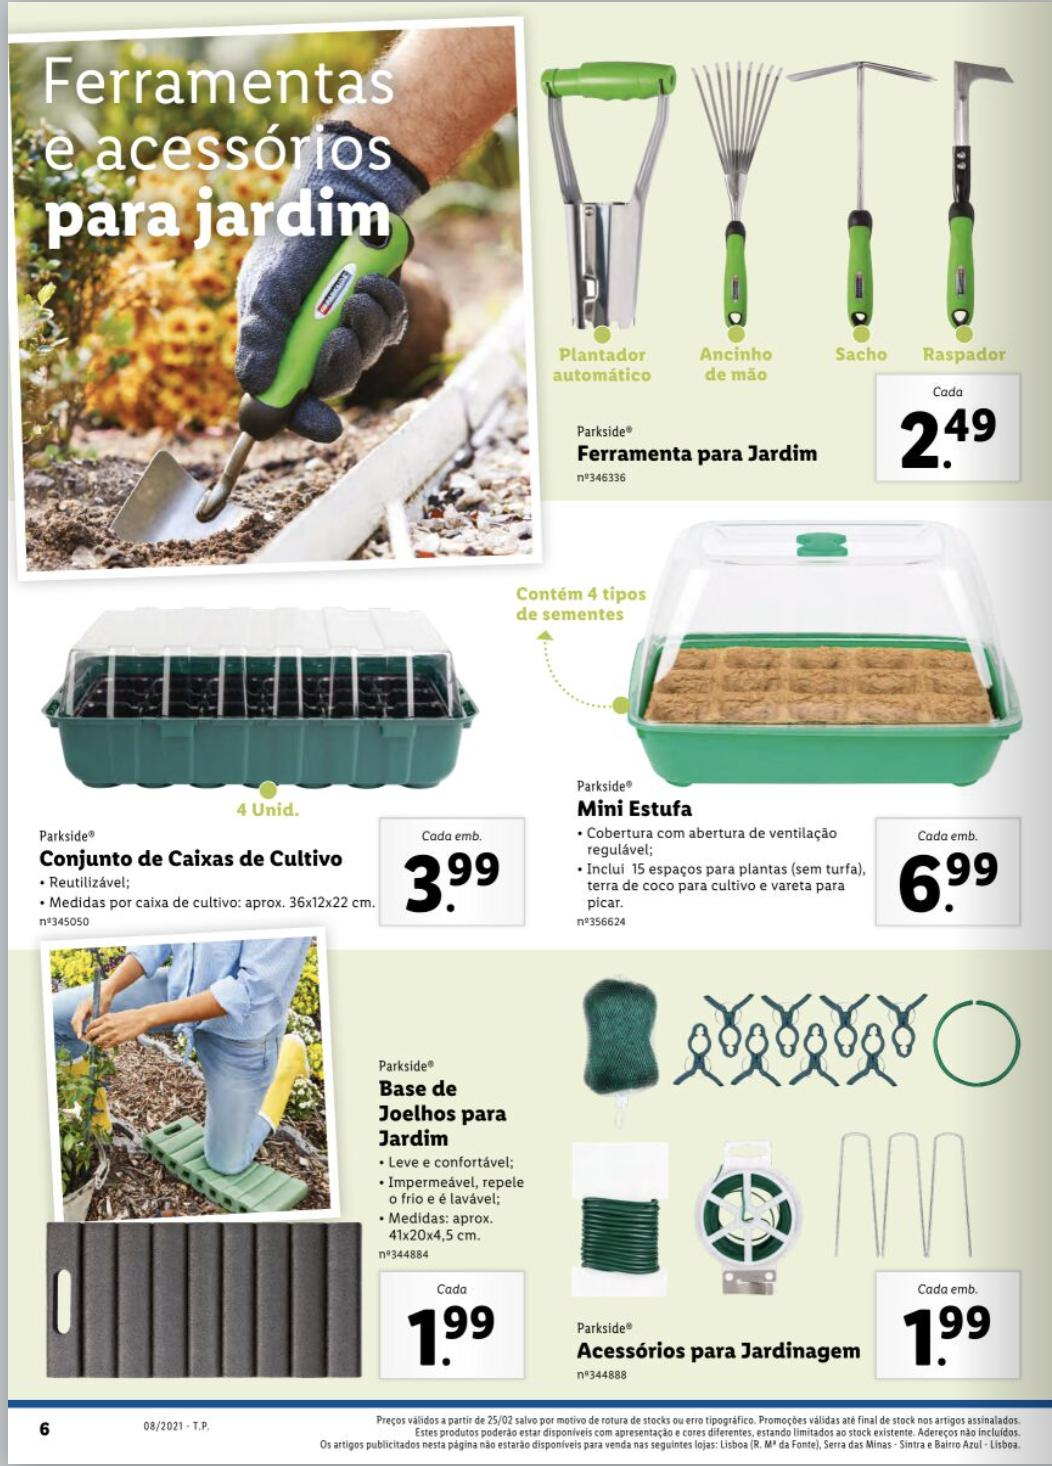name: (369, 1074, 515, 1156), (573, 1337, 868, 1370), (31, 843, 347, 874), (567, 433, 827, 468)
price: (376, 847, 527, 926), (878, 400, 1018, 485), (876, 1298, 1022, 1377), (389, 1298, 516, 1377)
product: (527, 38, 1036, 492), (560, 503, 1052, 947), (24, 1005, 549, 1390), (567, 967, 1039, 1385), (16, 592, 540, 939)
